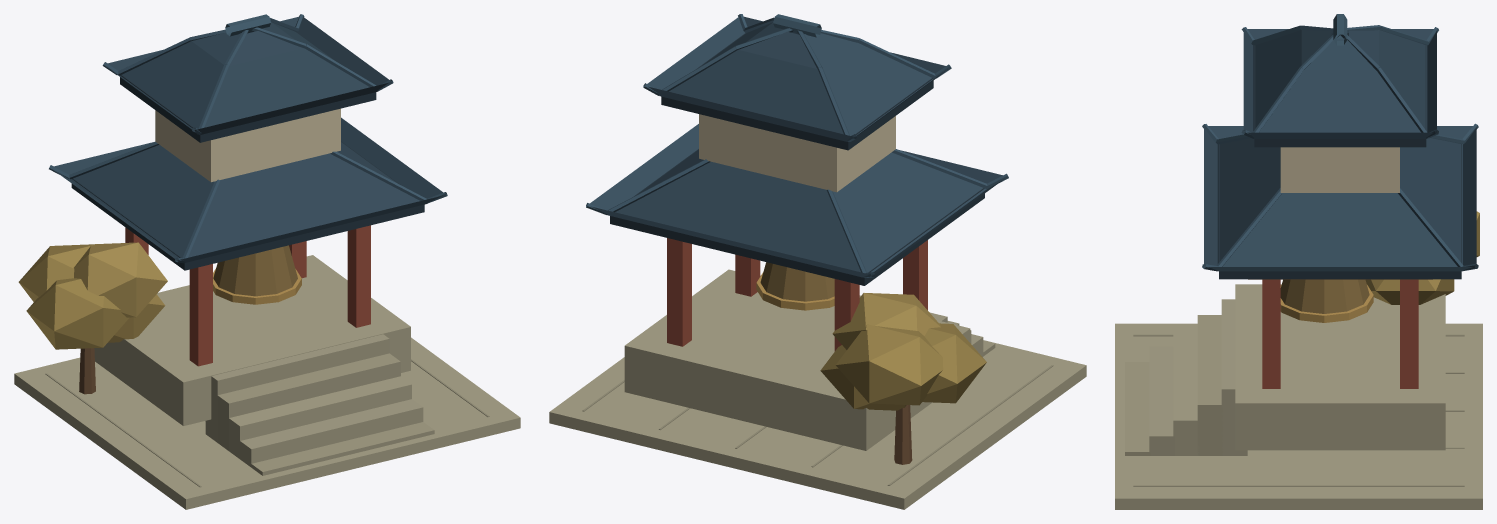
3 views of the same model, side by side, from view 1: azimuth 30°, elevation 25°; view 2: azimuth 150°, elevation 25°; view 3: azimuth 270°, elevation 25° (orthographic). The views are drawn at different scales.
Visible parts, largest first — view 1: S37_长安 · 山门钟楼; view 2: S37_长安 · 山门钟楼; view 3: S37_长安 · 山门钟楼.
Part boxes in pixels (x1=…): S37_长安 · 山门钟楼: x1=14, y1=14, x2=520, y2=509; S37_长安 · 山门钟楼: x1=549, y1=14, x2=1086, y2=509; S37_长安 · 山门钟楼: x1=1115, y1=14, x2=1482, y2=509.
Bounding box in the file's own units: 3.8 × 3.84 × 3.2.
